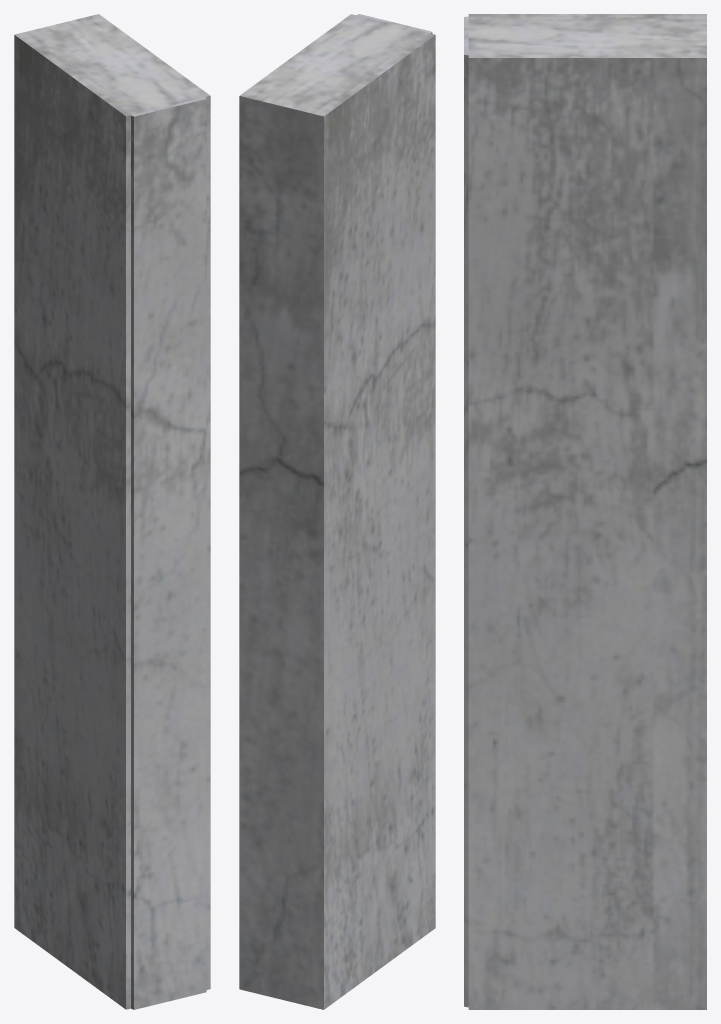
File: ms_tri_b_2_pile1b.fbx
The picture shows the model from 3 angles, left to right: view 1: azimuth 30°, elevation 25°; view 2: azimuth 150°, elevation 25°; view 3: azimuth 270°, elevation 25°; orthographic projection. The views are drawn at different scales.
Visible parts, largest first — view 1: ms_tri_b_2_pile1b; view 2: ms_tri_b_2_pile1b; view 3: ms_tri_b_2_pile1b.
Boxes of the visible parts, x1,y1,x2,y2 form: ms_tri_b_2_pile1b: (14, 14, 210, 1009); ms_tri_b_2_pile1b: (239, 14, 435, 1009); ms_tri_b_2_pile1b: (464, 14, 706, 1009).
Size of the model in its own units: 32.94 by 332 by 76.86.
